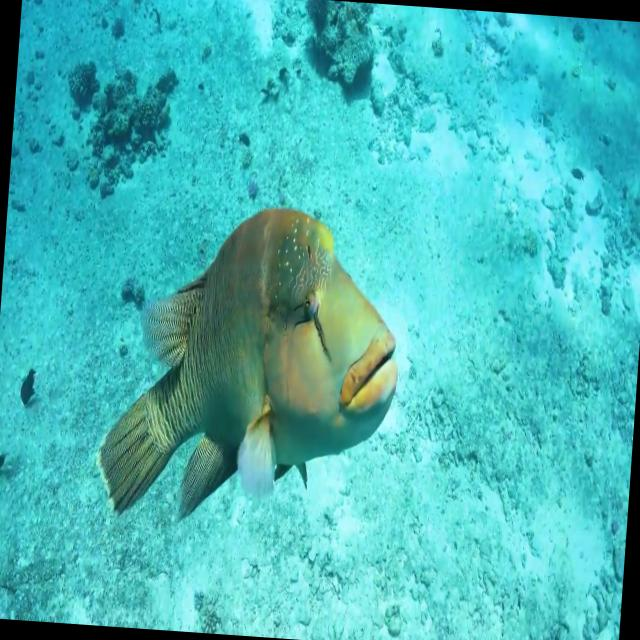fish: (81, 179, 416, 553)
